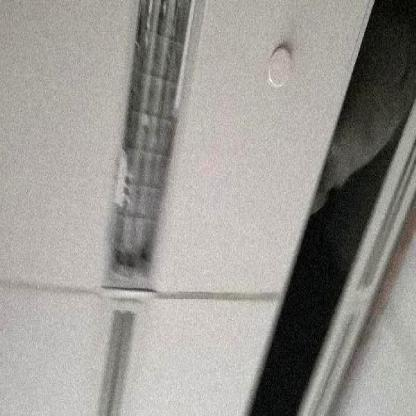light_off: (99, 0, 205, 298)
